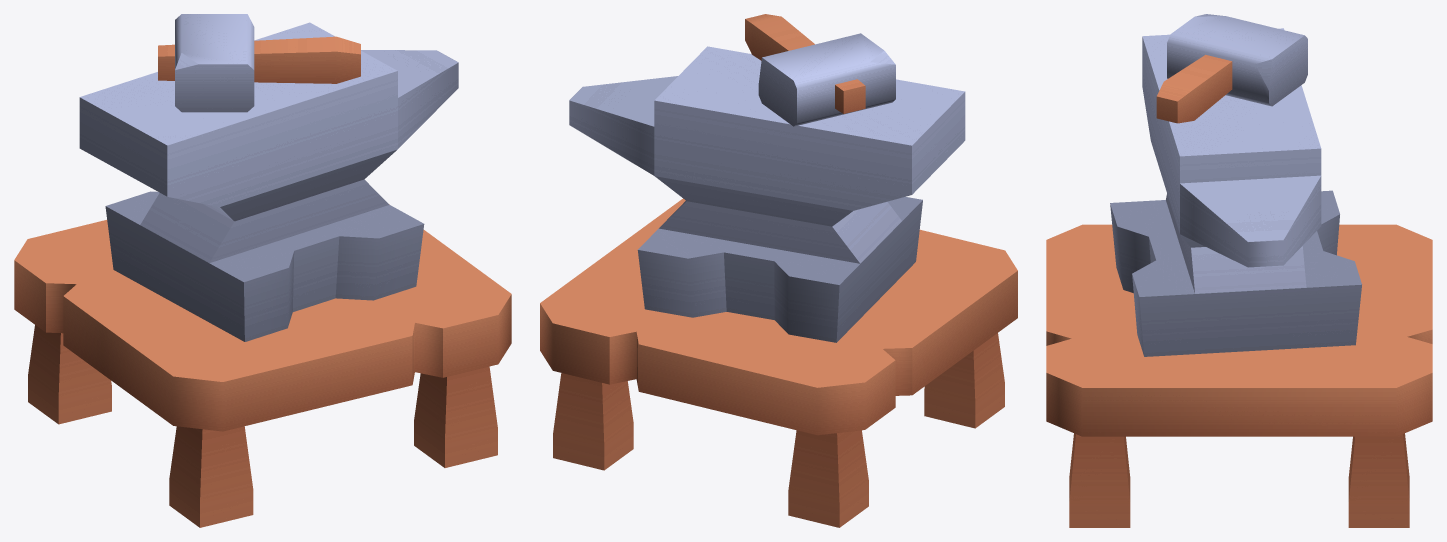
The model's file is workbench-anvil.glb.
The picture shows the model from 3 angles, left to right: view 1: azimuth 30°, elevation 25°; view 2: azimuth 150°, elevation 25°; view 3: azimuth 270°, elevation 25°; orthographic projection. The views are drawn at different scales.
Visible parts, largest first — view 1: workbench-anvil, hammer; view 2: workbench-anvil, hammer; view 3: workbench-anvil, hammer.
Boxes of the visible parts, x1,y1,x2,y2 form: workbench-anvil: (14, 22, 511, 527); hammer: (158, 14, 360, 112); workbench-anvil: (540, 46, 1017, 527); hammer: (745, 14, 895, 126); workbench-anvil: (1046, 28, 1432, 527); hammer: (1156, 14, 1307, 123).
Bounding box in the file's own units: 0.3227 × 0.3357 × 0.2957.
Materials: 1 (1 with a texture image).
